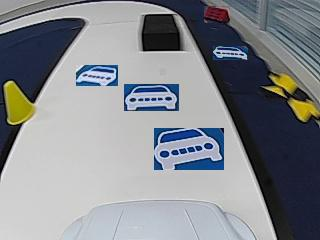block: (142, 13, 180, 51)
cone: (4, 82, 36, 125)
